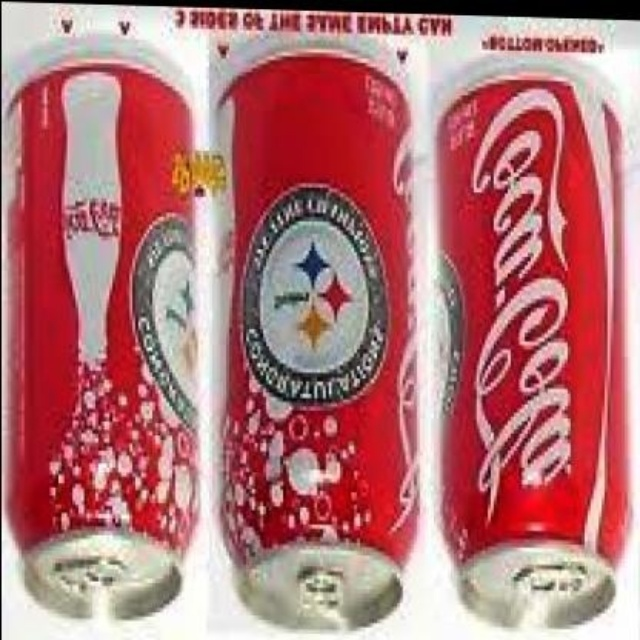trash: (0, 3, 638, 638), (223, 55, 415, 626), (9, 63, 194, 617), (438, 78, 625, 626)
